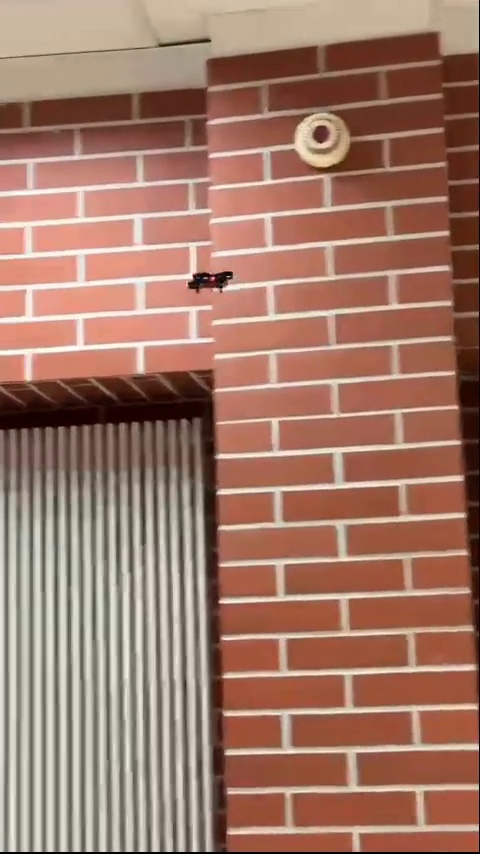drone: (194, 266, 233, 297)
